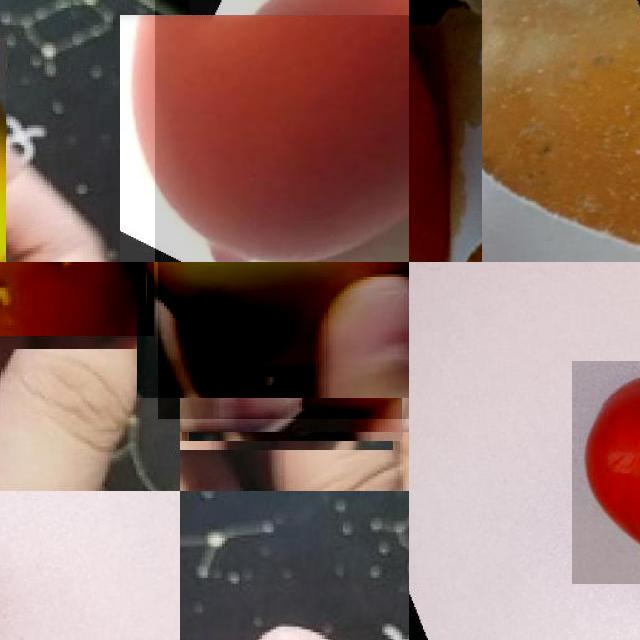1: (409, 0, 482, 262), (572, 361, 640, 584)
Fresh Tomato: (155, 0, 409, 262)
Rotten Tomato: (158, 262, 409, 419)
